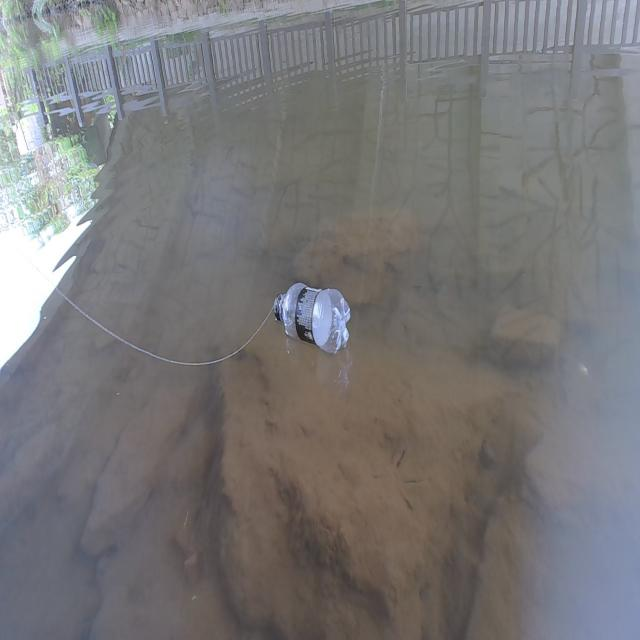Bottle: (273, 282, 352, 355)
